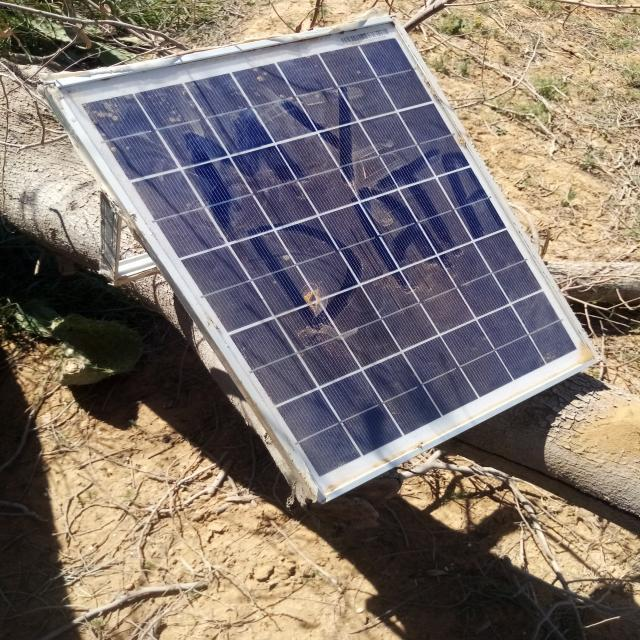faulty: (53, 15, 603, 503)
